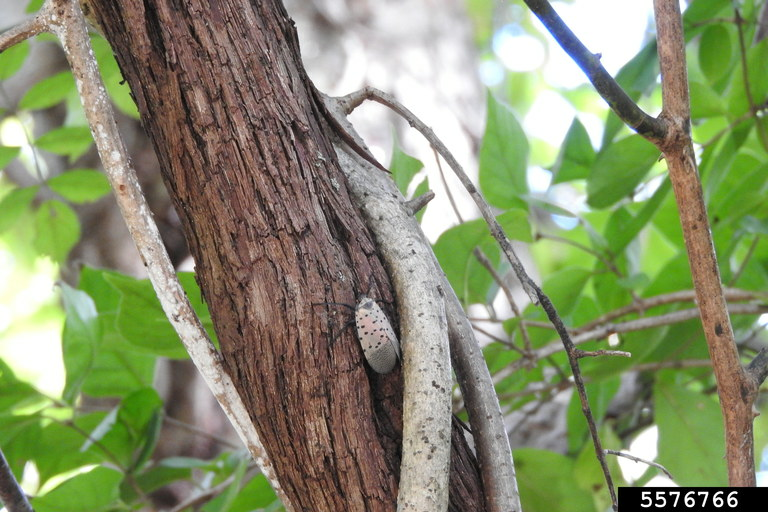adult: (316, 285, 411, 378)
